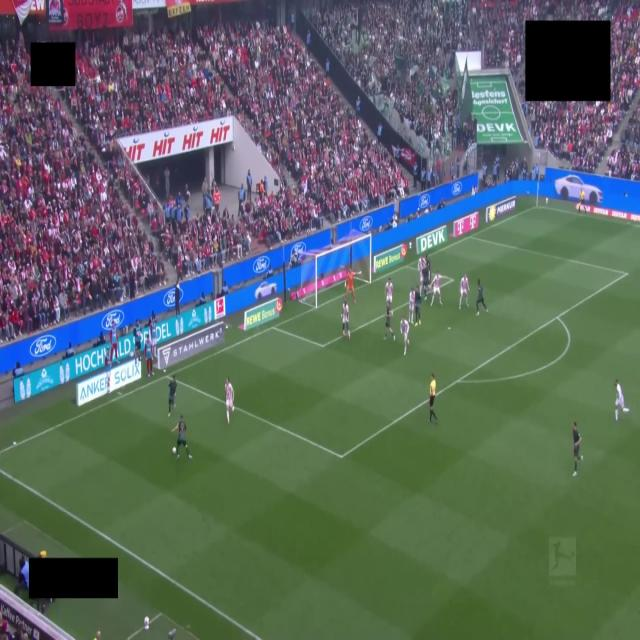ball: (172, 447, 176, 454)
player: (173, 416, 191, 459), (615, 380, 629, 421), (573, 422, 582, 476), (346, 269, 359, 303), (225, 377, 234, 424), (476, 279, 487, 315), (421, 255, 430, 298), (385, 303, 395, 340), (400, 318, 409, 355), (431, 272, 441, 305), (169, 375, 177, 416), (342, 299, 350, 339), (459, 275, 468, 309), (418, 255, 426, 292), (415, 288, 421, 326), (409, 288, 415, 323), (385, 278, 392, 308)
referee: (429, 373, 437, 423)
